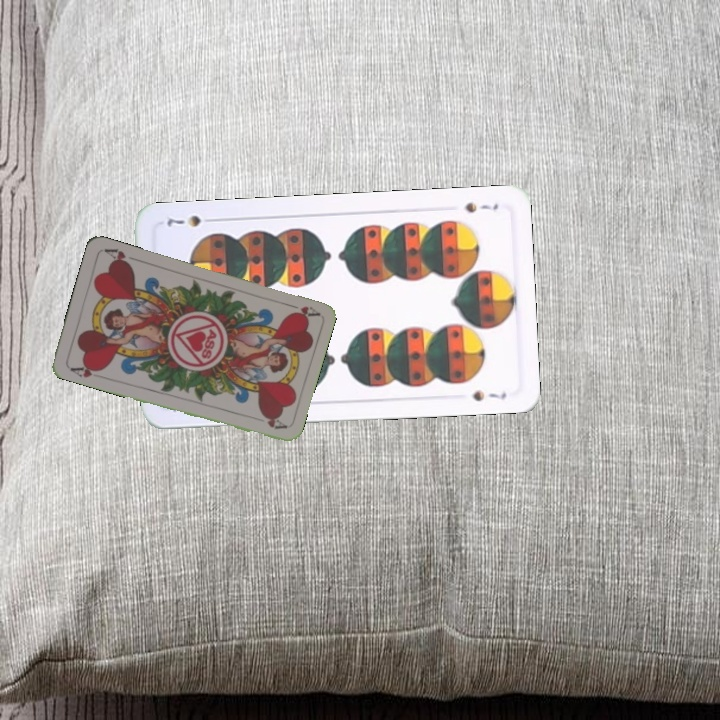HA: (281, 299, 321, 321), (66, 360, 105, 380)
S7: (459, 198, 501, 216)
